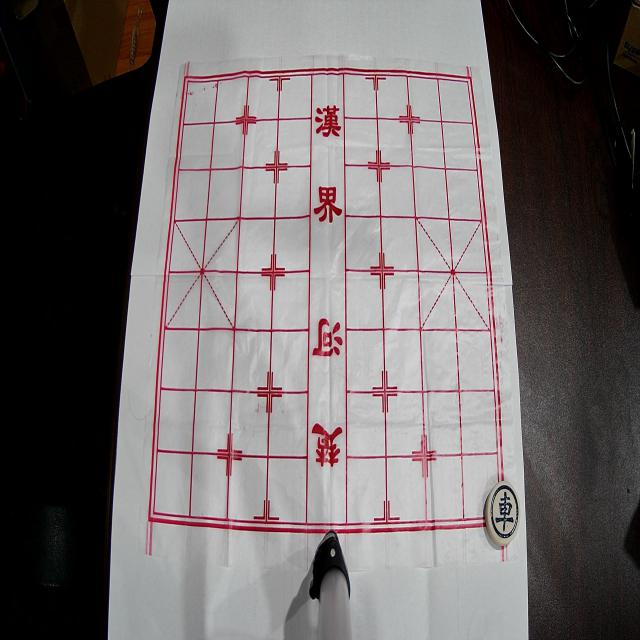black-chariot: (486, 481, 520, 546)
